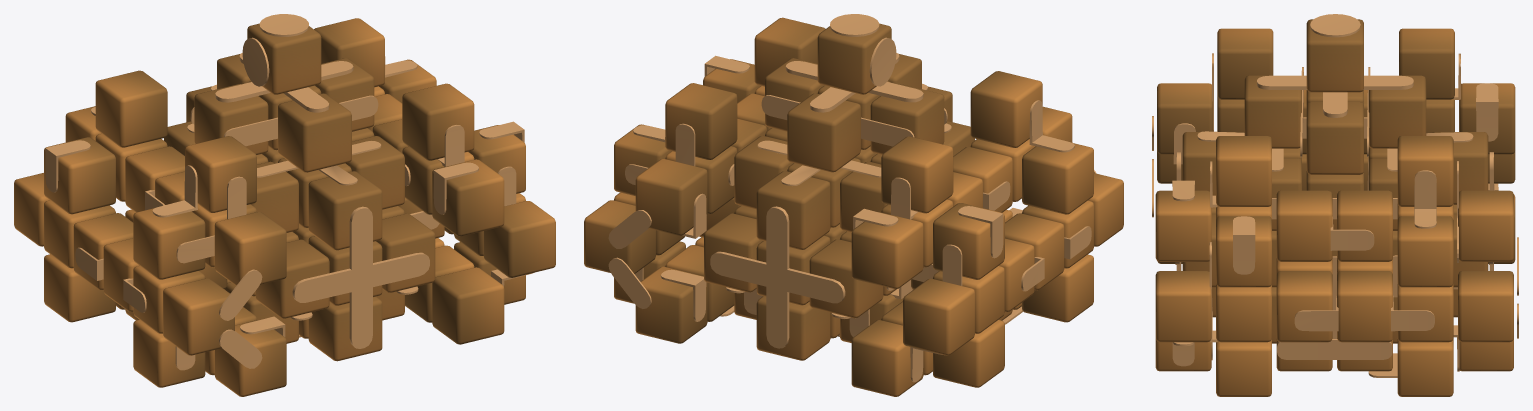
Rendered from level_150.fbx.
3 renders of one model, left to right at view 1: azimuth 30°, elevation 25°; view 2: azimuth 150°, elevation 25°; view 3: azimuth 270°, elevation 25°, orthographic.
Visible parts, largest first — view 1: Link_3.001, Cube_L3_19.031, Cube_L3_19.063, Cube_L1_12.017, Cube_L3_19.052, Cube_L3_19.061, Cube_L3_19.029, Cube_L3_19.047, Cube_L1_12.005, Cube_L3_19.065, Cube_L3_19.030, Cube_L3_19.035 (+56 smaller); view 2: Link_2.001, Cube_L3_19.048, Cube_L1_12.016, Cube_L3_19.051, Cube_L3_19.032, Cube_L3_19.035, Cube_L3_19.031, Cube_L3_19.033, Cube_L3_19.066, Cube_L1_12.003, Cube_L3_19.049, Cube_L3_19.064 (+57 smaller); view 3: Cube_L3_19.061, Cube_L3_19.010, Cube_L3_19.059, Cube_L3_19.029, Cube_L3_19.066, Cube_L3_19.002, Cube_L1_12.030, Cube_L3_19.034, Cube_L3_19.065, Cube_L1_12.018, Cube_L3_19.032, Cube_L3_19.031 (+47 smaller).
Part boxes in pixels (bbox=[...]): Link_3.001: bbox=[292, 206, 429, 348]; Cube_L3_19.031: bbox=[95, 70, 167, 147]; Cube_L3_19.063: bbox=[432, 267, 504, 344]; Cube_L1_12.017: bbox=[278, 93, 351, 172]; Cube_L3_19.052: bbox=[214, 212, 286, 285]; Cube_L3_19.061: bbox=[483, 201, 555, 277]; Cube_L3_19.029: bbox=[402, 83, 474, 160]; Cube_L3_19.047: bbox=[163, 278, 234, 355]; Cube_L1_12.005: bbox=[308, 171, 382, 250]; Cube_L3_19.065: bbox=[432, 159, 504, 236]; Cube_L3_19.030: bbox=[44, 137, 115, 214]; Cube_L3_19.035: bbox=[133, 208, 205, 279]; Link_2.001: bbox=[710, 206, 845, 348]; Cube_L3_19.048: bbox=[903, 278, 974, 355]; Cube_L1_12.016: bbox=[787, 93, 860, 172]; Cube_L3_19.051: bbox=[851, 212, 923, 288]; Cube_L3_19.032: bbox=[970, 71, 1042, 147]; Cube_L3_19.035: bbox=[1022, 143, 1093, 214]; Cube_L3_19.031: bbox=[881, 136, 953, 213]; Cube_L3_19.033: bbox=[665, 83, 737, 159]; Cube_L3_19.066: bbox=[635, 159, 707, 235]; Cube_L1_12.003: bbox=[756, 171, 830, 249]; Cube_L3_19.049: bbox=[851, 320, 923, 396]; Cube_L3_19.064: bbox=[635, 266, 707, 343]; Cube_L3_19.061: bbox=[1155, 271, 1211, 342]; Cube_L3_19.010: bbox=[1276, 190, 1332, 261]; Cube_L3_19.059: bbox=[1458, 271, 1513, 342]; Cube_L3_19.029: bbox=[1216, 136, 1271, 206]; Cube_L3_19.066: bbox=[1458, 190, 1513, 261]; Cube_L3_19.002: bbox=[1337, 271, 1392, 342]; Cube_L1_12.030: bbox=[1306, 102, 1363, 174]; Cube_L3_19.034: bbox=[1397, 216, 1453, 287]; Cube_L3_19.065: bbox=[1155, 190, 1211, 261]; Cube_L1_12.018: bbox=[1306, 19, 1363, 92]; Cube_L3_19.032: bbox=[1217, 28, 1273, 99]; Cube_L3_19.031: bbox=[1399, 28, 1454, 99].
Bounding box in the file's own units: 15.42 × 11.03 × 12.74.
